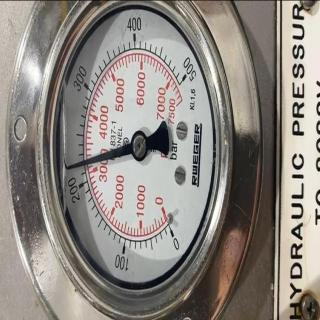gauge: (1, 1, 275, 319), (153, 203, 183, 237), (163, 90, 193, 116), (130, 131, 148, 161), (62, 159, 78, 173)
